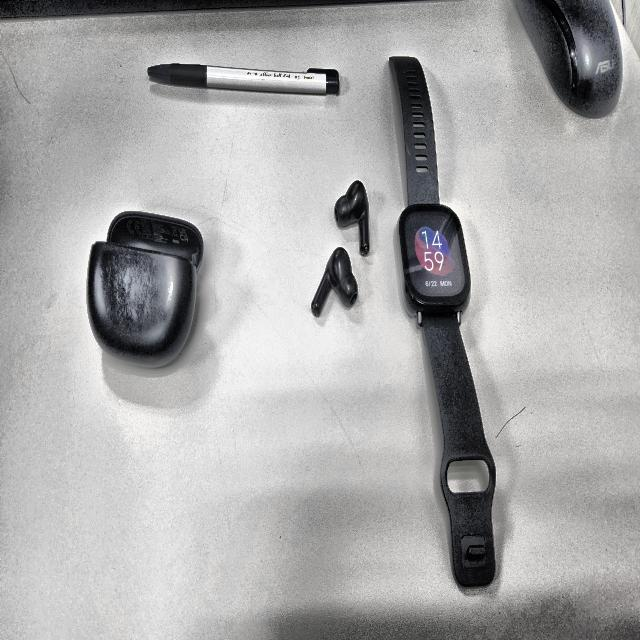Bluetooth headphones: (87, 212, 203, 367), (311, 247, 358, 316), (335, 181, 370, 256)
Electronic watch: (398, 203, 470, 315)
MOUSE: (515, 0, 622, 118)
